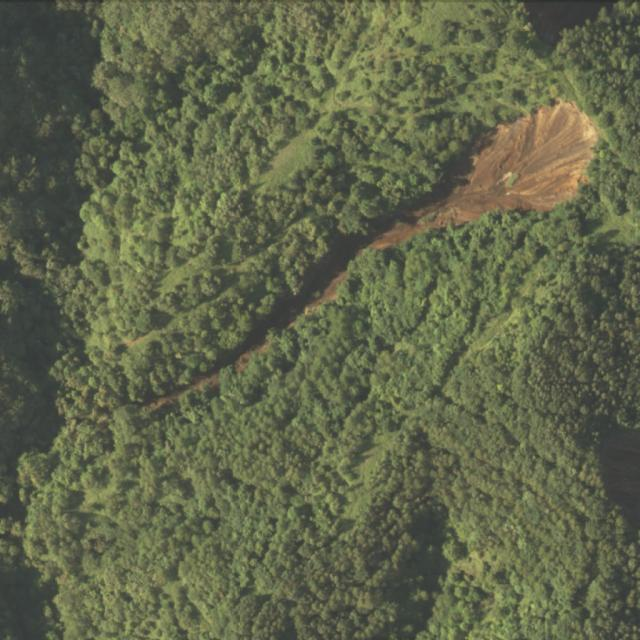landslide: (371, 100, 601, 248)
